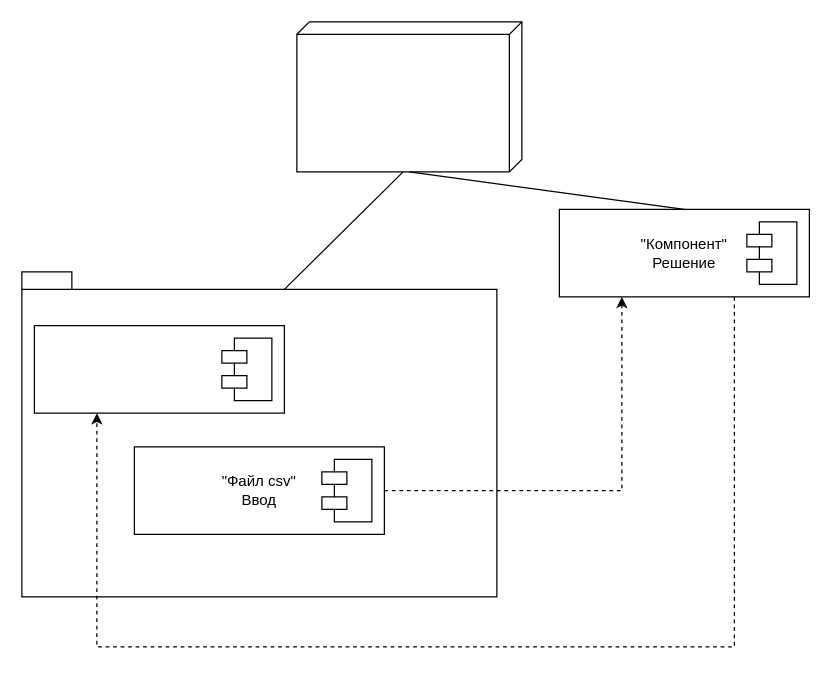
Image size: 831x679. Some labels were removed from this diagram. The shapes that lost their labels are listed below. From the top down, each one's box as (x1, y1, x2, y2) in pixels, then its label:
(296, 21, 522, 172): ИС "КритПуть"
(33, 324, 284, 413): "Файл txt" Вывод
